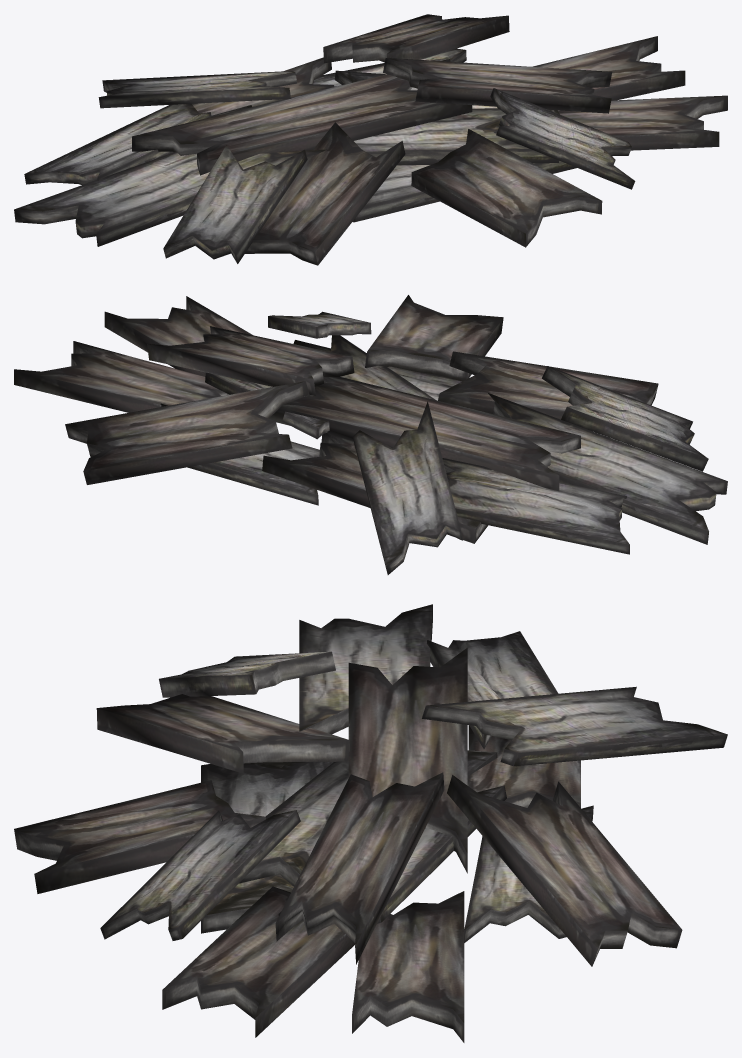
Rendered from PRP_BrokenWood.FBX.
The picture shows the model from 3 angles, top to bottom: view 1: azimuth 30°, elevation 25°; view 2: azimuth 150°, elevation 25°; view 3: azimuth 270°, elevation 25°; orthographic projection. The views are drawn at different scales.
Parts seen in each view (by area): view 1: PRP_BrokenWood; view 2: PRP_BrokenWood; view 3: PRP_BrokenWood.
Part boxes in pixels (x1,y1,x2,y2): PRP_BrokenWood: [14, 14, 727, 265]; PRP_BrokenWood: [14, 295, 727, 574]; PRP_BrokenWood: [14, 604, 727, 1042].
Bounding box in the file's own units: 686 × 72.35 × 486.
